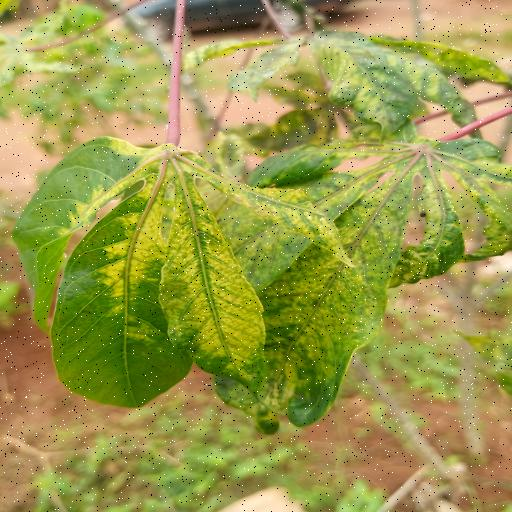Cassava_Mosaic: (17, 128, 370, 437), (249, 132, 512, 294)
